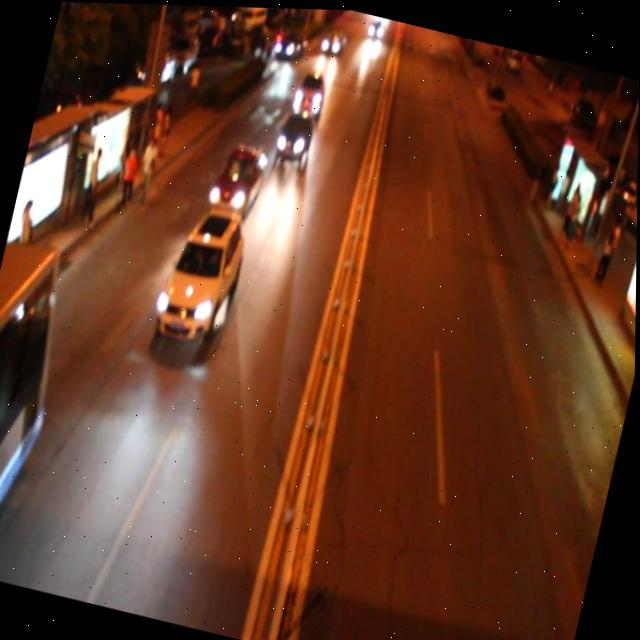car: (154, 198, 254, 347), (205, 136, 270, 214), (272, 105, 316, 163), (289, 64, 328, 117)
van: (0, 236, 77, 583)
